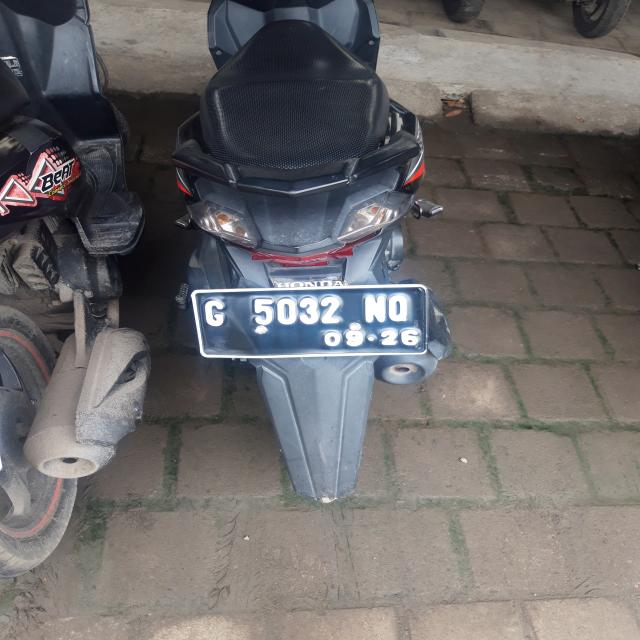plate: (189, 288, 431, 358)
